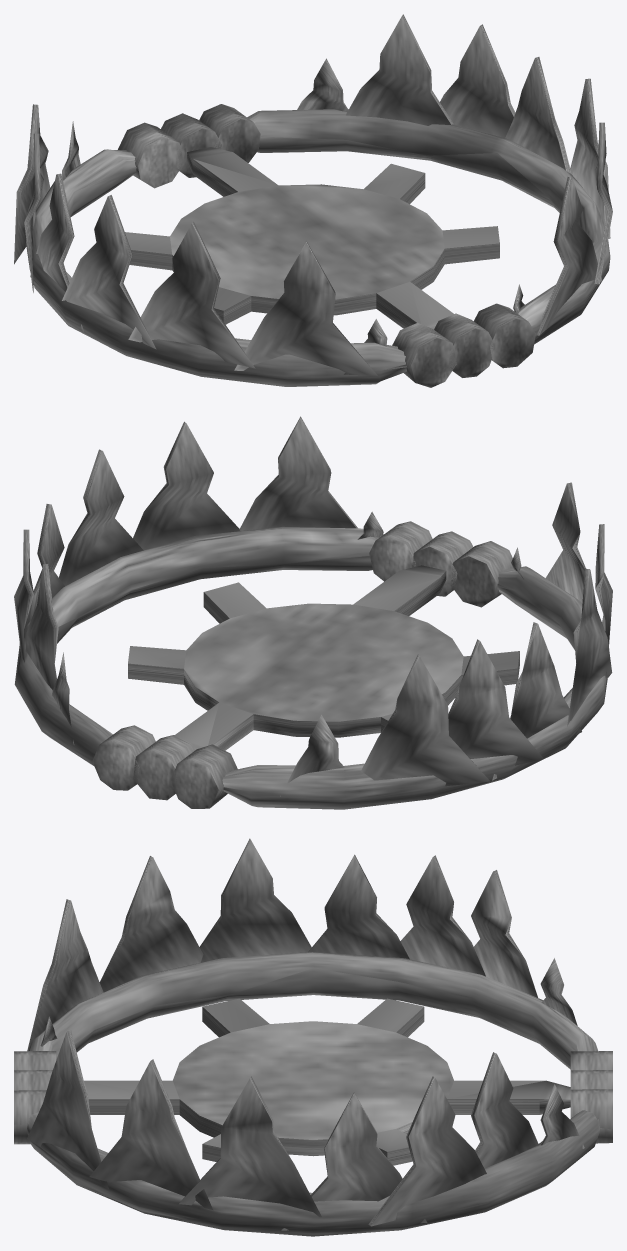
The model's file is Bear Trap.fbx.
3 views of the same model, one above another, from view 1: azimuth 30°, elevation 25°; view 2: azimuth 150°, elevation 25°; view 3: azimuth 270°, elevation 25° (orthographic).
Parts seen in each view (by area): view 1: Bear Trap; view 2: Bear Trap; view 3: Bear Trap.
Boxes of the visible parts, <box> form: Bear Trap: <box>14,14,612,387</box>; Bear Trap: <box>14,416,612,809</box>; Bear Trap: <box>14,838,612,1236</box>.
Size of the model in its own units: 231 by 68.13 by 231.
Materials: 1 (1 with a texture image).
